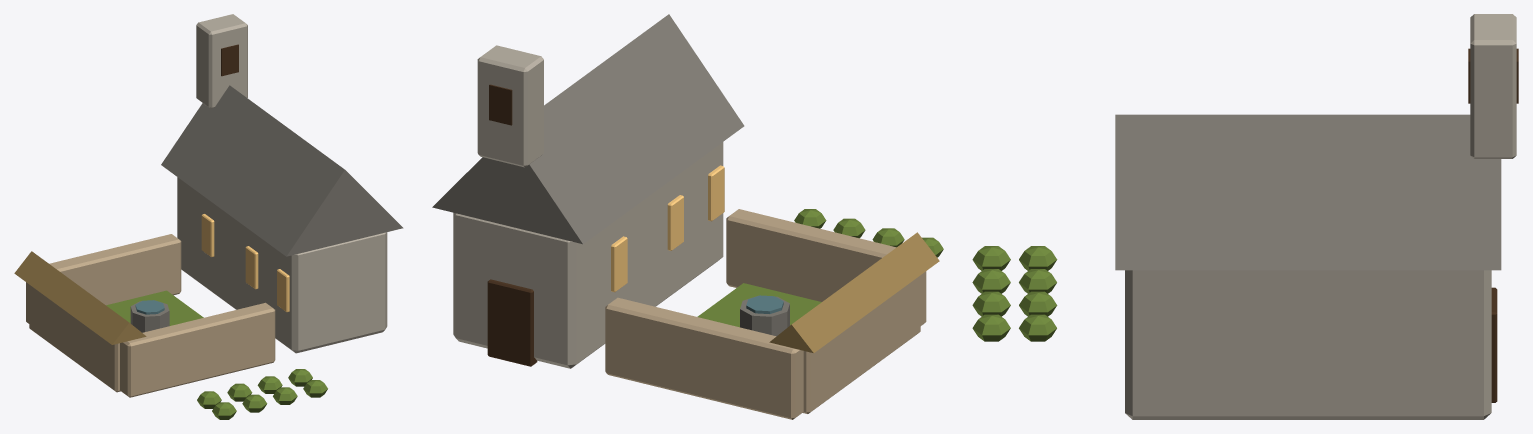
The model's file is world_abbey.fbx.
The picture shows the model from 3 angles, left to right: view 1: azimuth 30°, elevation 25°; view 2: azimuth 150°, elevation 25°; view 3: azimuth 270°, elevation 25°; orthographic projection. The views are drawn at different scales.
Parts seen in each view (by area): view 1: Building; view 2: Building; view 3: Building.
Boxes of the visible parts, <box> form: Building: <box>14,14,403,419</box>; Building: <box>432,14,943,419</box>; Building: <box>972,14,1518,419</box>.
Bounding box in the file's own units: 1.29 × 1.41 × 1.06.
